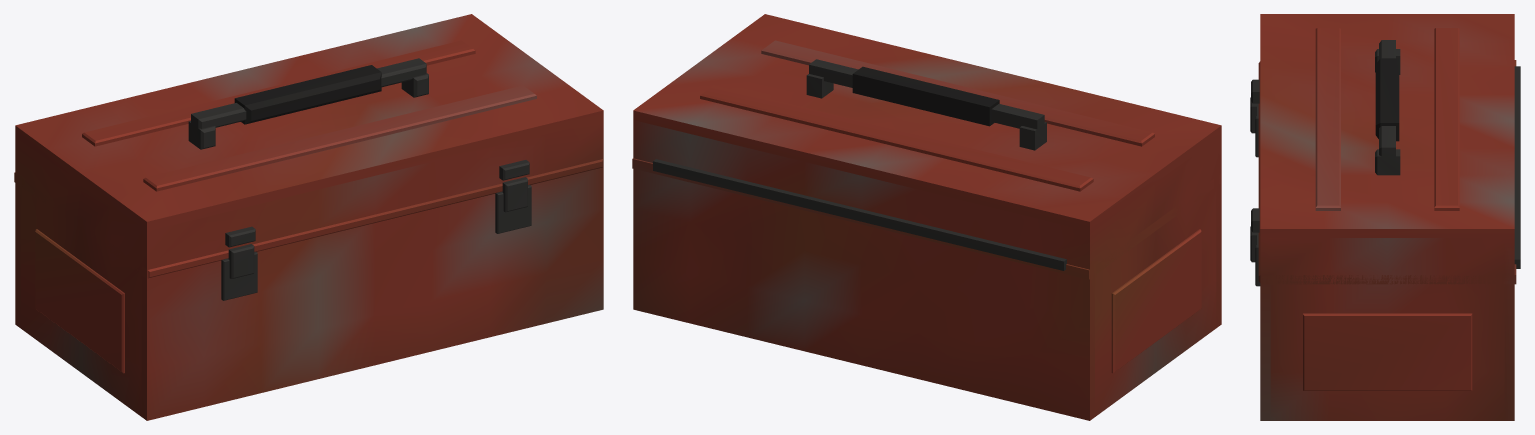
File: old_toolbox_01.glb
3 renders of one model, left to right at view 1: azimuth 30°, elevation 25°; view 2: azimuth 150°, elevation 25°; view 3: azimuth 270°, elevation 25°, orthographic. The views are drawn at different scales.
Visible parts, largest first — view 1: toolbox_body, toolbox_lid, toolbox_lid_metal, toolbox_body_metal; view 2: toolbox_body, toolbox_lid, toolbox_lid_metal; view 3: toolbox_lid, toolbox_body, toolbox_lid_metal, toolbox_body_metal.
Part boxes in pixels (bbox=[...]): toolbox_body: bbox=[14, 158, 603, 420]; toolbox_lid: bbox=[15, 14, 603, 269]; toolbox_lid_metal: bbox=[188, 58, 529, 247]; toolbox_body_metal: bbox=[221, 177, 531, 300]; toolbox_body: bbox=[632, 158, 1221, 420]; toolbox_lid: bbox=[633, 14, 1221, 269]; toolbox_lid_metal: bbox=[653, 59, 1066, 270]; toolbox_lid: bbox=[1260, 14, 1514, 274]; toolbox_body: bbox=[1258, 60, 1516, 420]; toolbox_lid_metal: bbox=[1251, 40, 1520, 268]; toolbox_body_metal: bbox=[1250, 97, 1260, 286].
Bounding box in the file's own units: 0.607 × 0.3 × 0.319.
